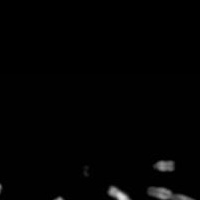chromosome: (147, 185, 195, 200), (107, 186, 135, 200), (152, 161, 173, 171), (53, 197, 68, 200), (0, 176, 1, 196)
